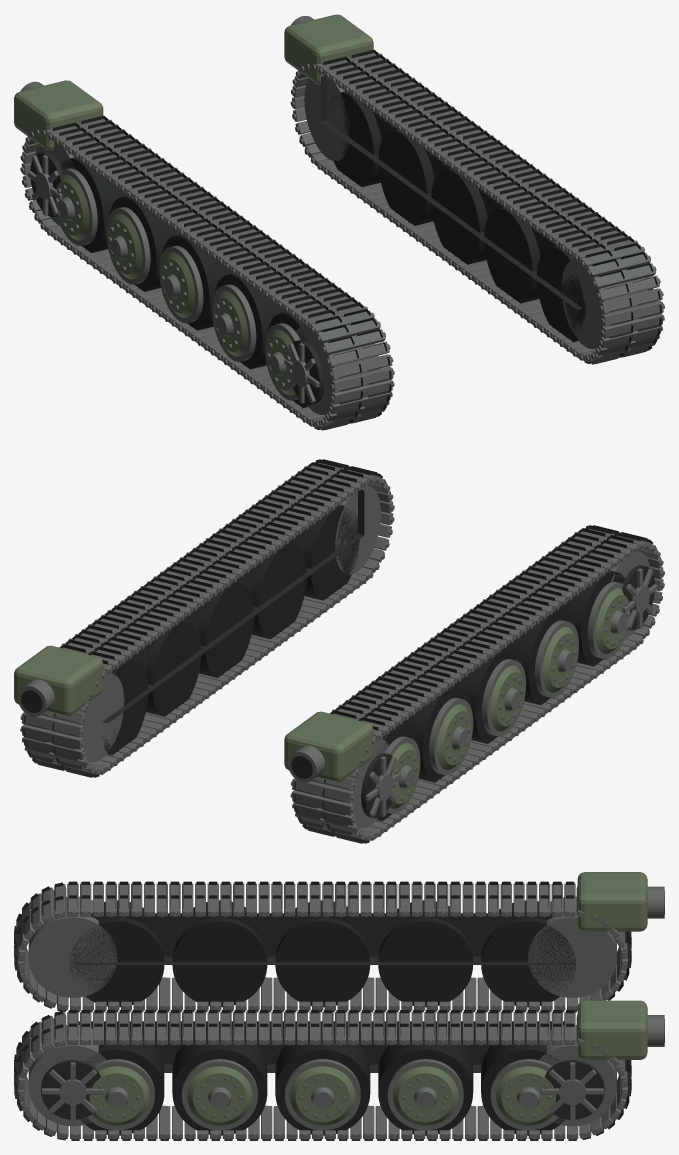
Rendered from tracks_2_5.glb.
3 renders of one model, top to bottom at view 1: azimuth 30°, elevation 25°; view 2: azimuth 150°, elevation 25°; view 3: azimuth 270°, elevation 25°, orthographic. The views are drawn at different scales.
Visible parts, largest first — view 1: tracks.008; view 2: tracks.008; view 3: tracks.008.
Part boxes in pixels (x1,y1,x2,y2): tracks.008: [14, 14, 664, 430]; tracks.008: [14, 459, 664, 843]; tracks.008: [14, 872, 664, 1140].
Size of the model in its own units: 3.91 by 1.29 by 6.52.
